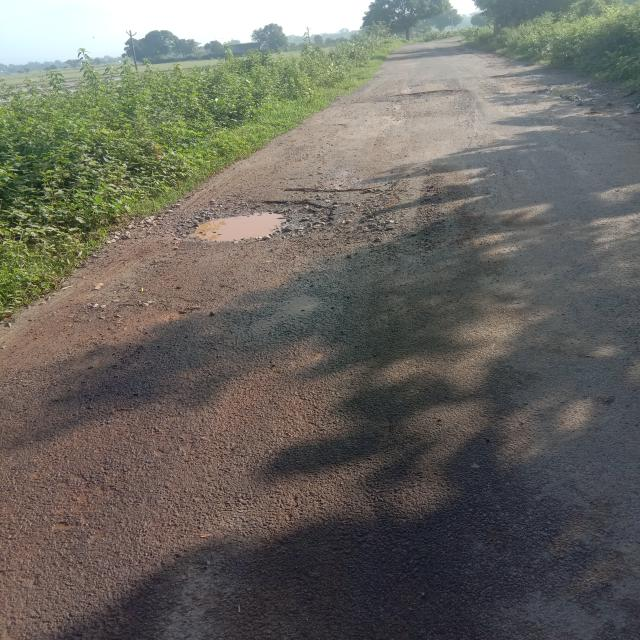potholes: (180, 208, 285, 246)
